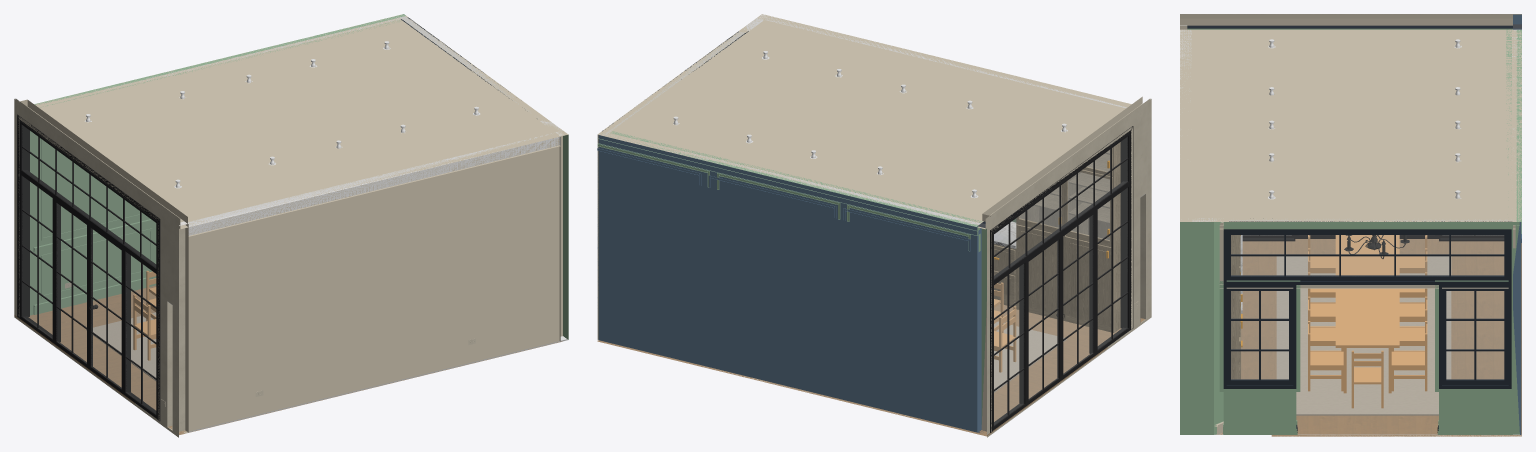
Rendered from dining-room-dd1e936df99e.glb.
3 views of the same model, side by side, from view 1: azimuth 30°, elevation 25°; view 2: azimuth 150°, elevation 25°; view 3: azimuth 270°, elevation 25° (orthographic). The views are drawn at different scales.
Visible parts, largest first — view 1: dining-room-d999b7e09afcf2f4, dining-room-2575515a05775d9e, dining-room-08d72923bcfd3529, dining-room-b19b106fc304963c, dining-room-6ee65e99bea3721a, dining-room-3b0077416469e01b, dining-room-a6417c3a9acf4891, dining-room-9d465714b306dbae, dining-room-33ee0b466567e5f0, dining-room-d33eebe572d154f2, dining-room-871e2e831c6190fa, dining-room-354fbccf932fc63a (+8 smaller); view 2: dining-room-b19b106fc304963c, dining-room-2575515a05775d9e, dining-room-08d72923bcfd3529, dining-room-6ee65e99bea3721a, dining-room-3b0077416469e01b, dining-room-1bf7a67d8ce0efe5, dining-room-039192b0560cfac3, dining-room-33ee0b466567e5f0, dining-room-2c2ea765d431e5a6, dining-room-478b3d72e55116fc, dining-room-8b1c368f4645b32b, dining-room-1654b83986853156 (+11 smaller); view 3: dining-room-2575515a05775d9e, dining-room-98d6adcddba0b27e, dining-room-354fbccf932fc63a, dining-room-3b0077416469e01b, dining-room-31023c09b8d733cb, dining-room-871e2e831c6190fa, dining-room-04e6278159fe4ee8, dining-room-ad953dfeb3e994ba, dining-room-9b21989b25895c4a, dining-room-8d0c89bf27e198bd, dining-room-33ee0b466567e5f0, dining-room-d33eebe572d154f2 (+8 smaller).
Boxes of the visible parts, x1,y1,x2,y2 form: dining-room-d999b7e09afcf2f4: [188, 133, 559, 431]; dining-room-2575515a05775d9e: [15, 14, 568, 229]; dining-room-08d72923bcfd3529: [17, 114, 160, 421]; dining-room-b19b106fc304963c: [30, 17, 400, 315]; dining-room-6ee65e99bea3721a: [18, 109, 175, 432]; dining-room-3b0077416469e01b: [14, 285, 156, 403]; dining-room-a6417c3a9acf4891: [188, 136, 560, 236]; dining-room-9d465714b306dbae: [175, 221, 188, 434]; dining-room-33ee0b466567e5f0: [18, 99, 187, 225]; dining-room-d33eebe572d154f2: [556, 132, 568, 341]; dining-room-871e2e831c6190fa: [86, 312, 156, 380]; dining-room-354fbccf932fc63a: [133, 270, 156, 360]; dining-room-b19b106fc304963c: [597, 133, 980, 432]; dining-room-2575515a05775d9e: [597, 14, 1150, 229]; dining-room-08d72923bcfd3529: [990, 126, 1133, 432]; dining-room-6ee65e99bea3721a: [982, 108, 1148, 431]; dining-room-3b0077416469e01b: [597, 321, 1107, 436]; dining-room-1bf7a67d8ce0efe5: [1016, 142, 1120, 332]; dining-room-039192b0560cfac3: [977, 216, 991, 434]; dining-room-33ee0b466567e5f0: [982, 96, 1151, 222]; dining-room-2c2ea765d431e5a6: [1069, 243, 1107, 320]; dining-room-478b3d72e55116fc: [1020, 231, 1057, 308]; dining-room-8b1c368f4645b32b: [597, 138, 979, 235]; dining-room-1654b83986853156: [1068, 172, 1109, 240]; dining-room-2575515a05775d9e: [1180, 14, 1521, 221]; dining-room-98d6adcddba0b27e: [1223, 229, 1511, 284]; dining-room-354fbccf932fc63a: [1308, 235, 1427, 408]; dining-room-3b0077416469e01b: [1271, 239, 1521, 436]; dining-room-31023c09b8d733cb: [1223, 219, 1521, 434]; dining-room-871e2e831c6190fa: [1276, 256, 1451, 415]; dining-room-04e6278159fe4ee8: [1223, 285, 1296, 388]; dining-room-ad953dfeb3e994ba: [1439, 285, 1511, 388]; dining-room-9b21989b25895c4a: [1191, 218, 1223, 434]; dining-room-8d0c89bf27e198bd: [1216, 241, 1271, 434]; dining-room-33ee0b466567e5f0: [1180, 14, 1512, 25]; dining-room-d33eebe572d154f2: [1180, 222, 1191, 434].
Bounding box in the file's own units: 5.95 × 3.19 × 4.36.
36 materials, 10 textured.
